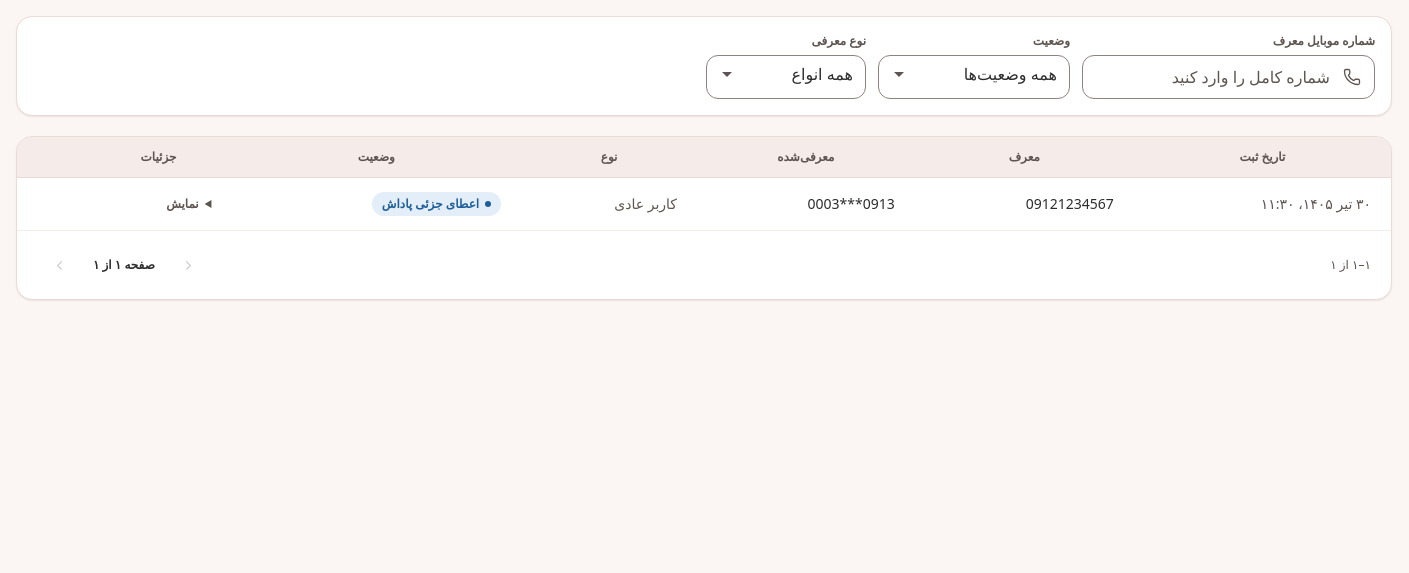
Test: ReferralsView › shows a reversed reward and a still-pending (not yet granted) side distinctly
Click the heading "نمایش" at (182, 204), box [166,195,199,212]
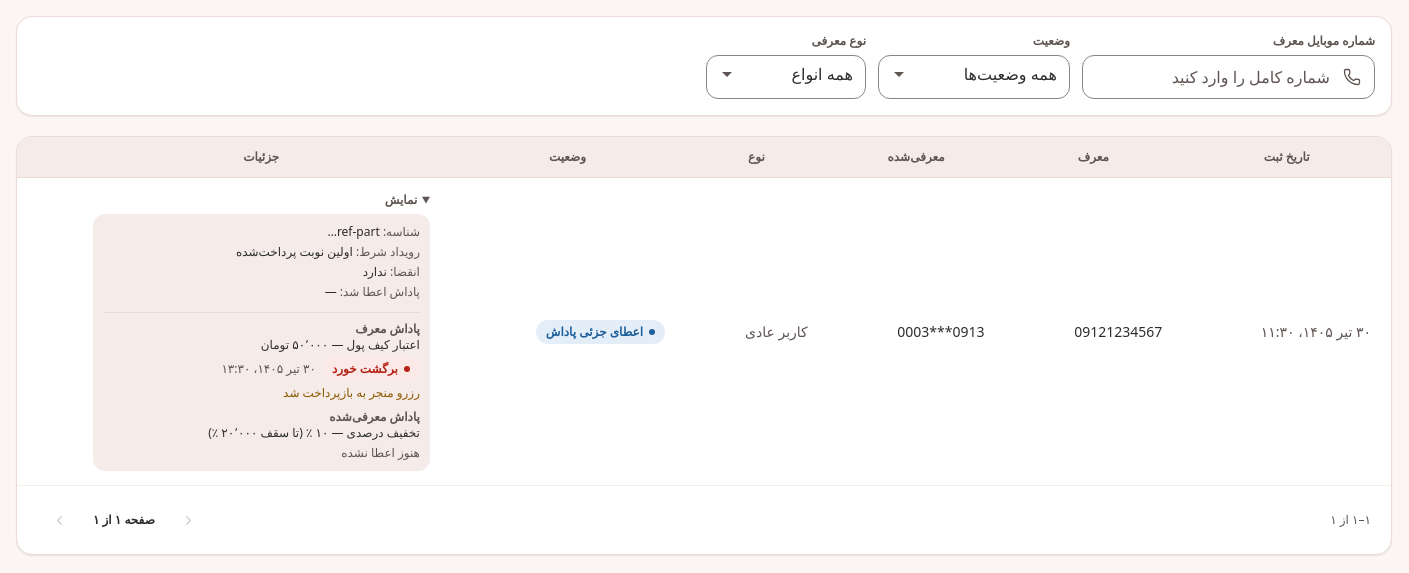
Expected: the element with test id "reward-status-referrer" shows "برگشت خورد", [332,360,398,377]
Expected: the element with test id "reward-status-referrer" shows "رزرو منجر به بازپرداخت شد", [283,384,420,401]
Expected: the element with test id "referral-details" shows "هنوز اعطا نشده", [341,444,420,461]
